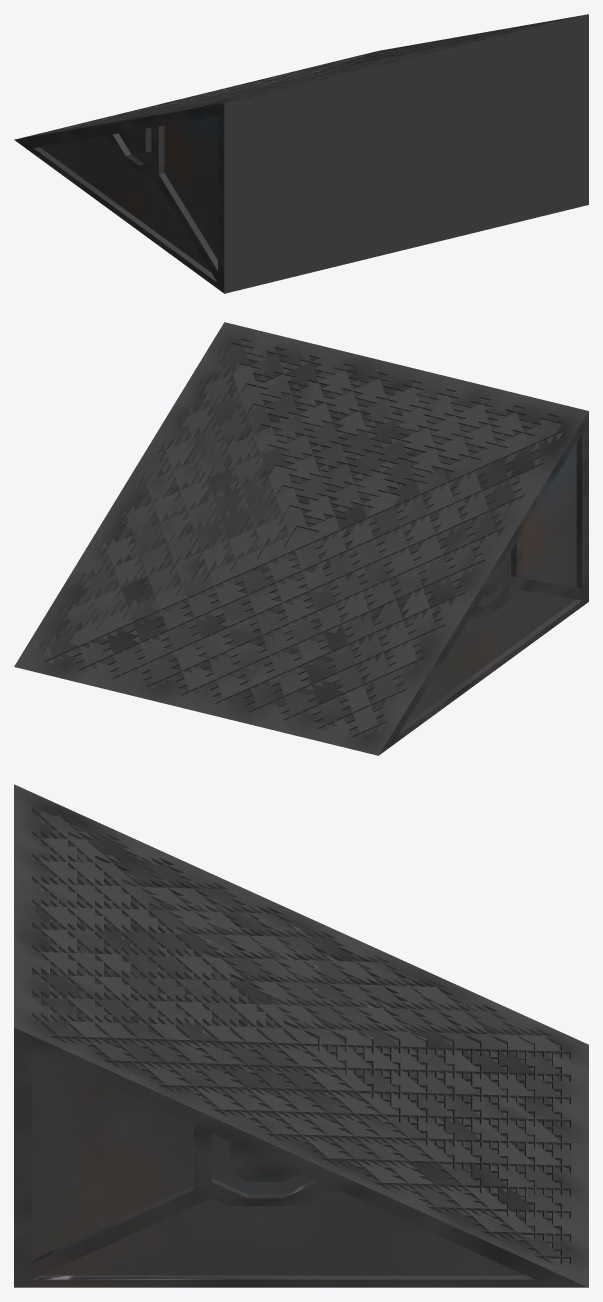
The model's file is wedge2.glb.
The picture shows the model from 3 angles, top to bottom: view 1: azimuth 30°, elevation 25°; view 2: azimuth 150°, elevation 25°; view 3: azimuth 270°, elevation 25°; orthographic projection. The views are drawn at different scales.
Visible parts, largest first — view 1: Cube; view 2: Cube; view 3: Cube.
Part boxes in pixels (<box>): Cube: <box>14,14,588,293</box>; Cube: <box>14,322,588,755</box>; Cube: <box>14,784,588,1287</box>.
Size of the model in its own units: 2 by 1 by 2.
Materials: 1 (1 with a texture image).
